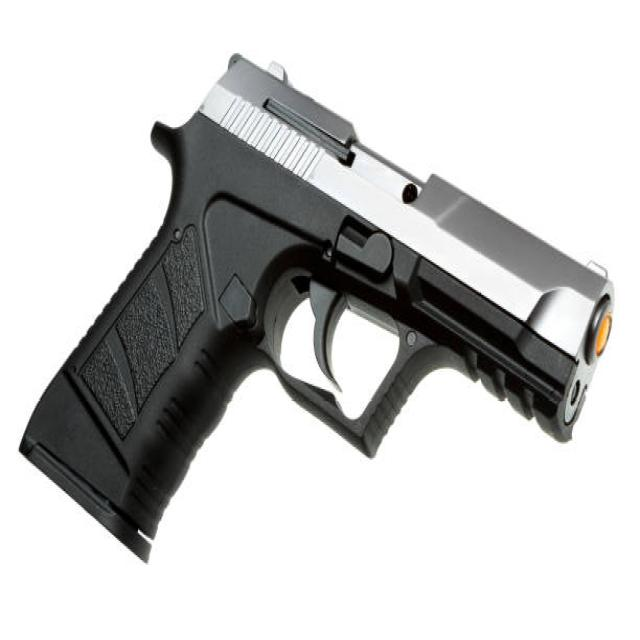pistol: (20, 43, 619, 581)
